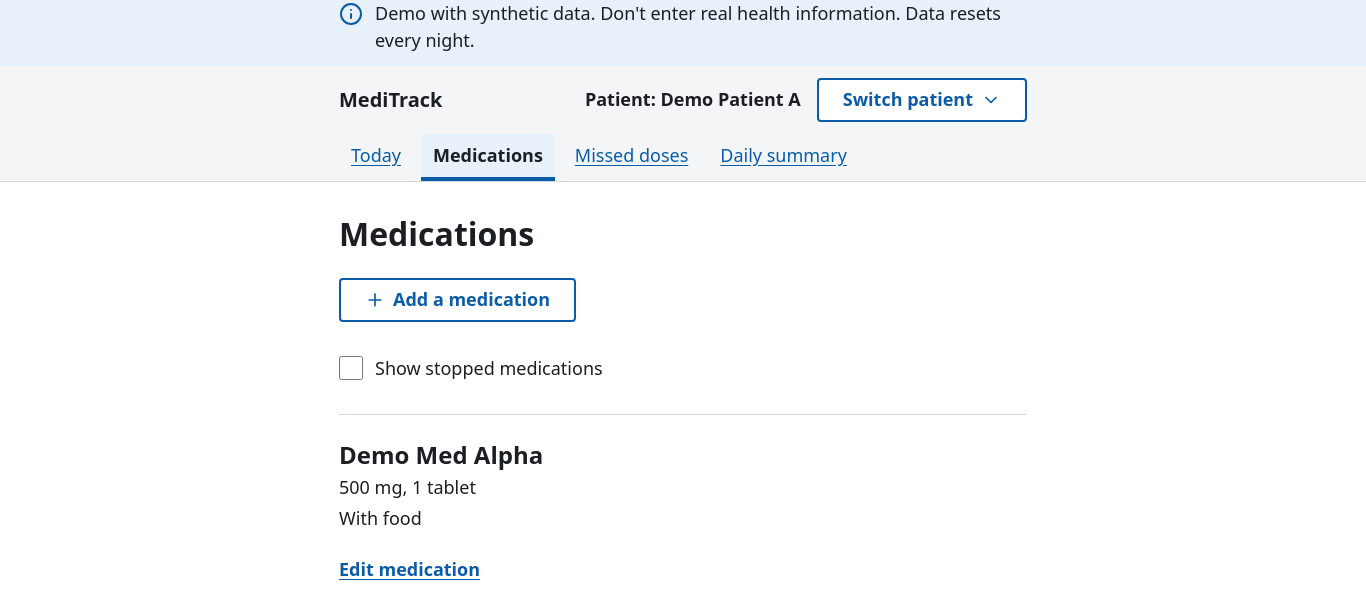
Test case: Medication form › shows the server's field errors next to the field (AC-03)
The width and height of the screenshot is (1366, 601).
Step 1. Click the button "Add a medication" → x=458, y=300, box 339,278 -> 576,322
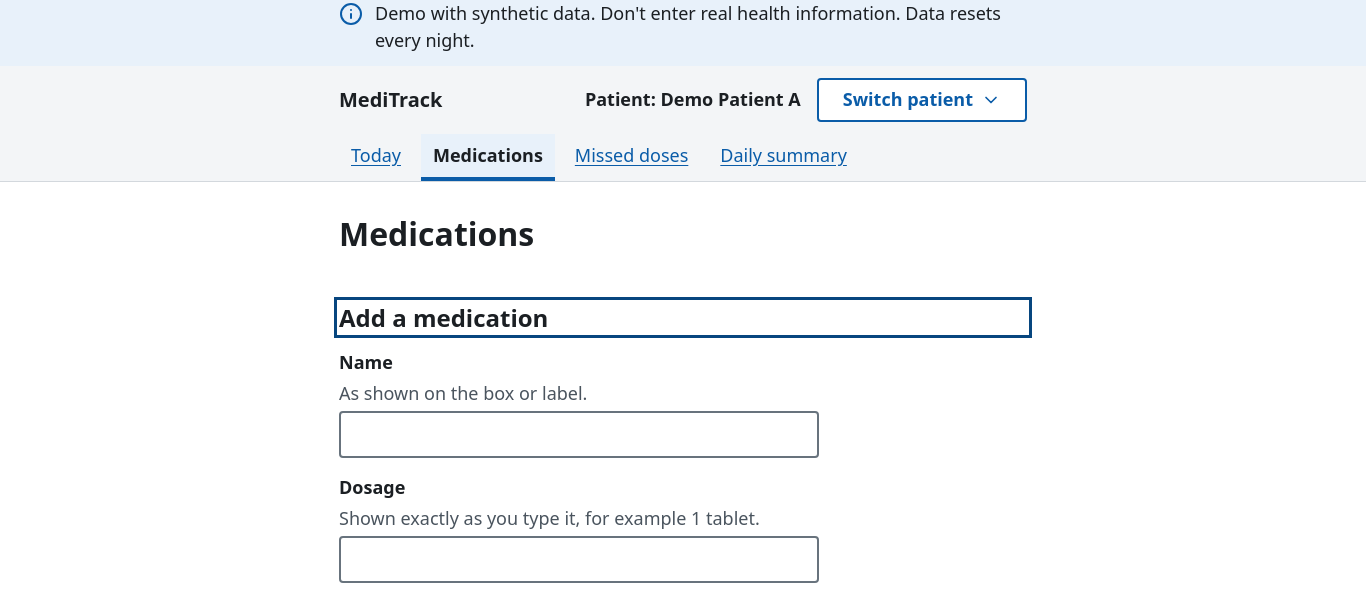
Step 2. Type "Demo Med Alpha" into the field labelled "Name" → x=579, y=435, box 339,411 -> 819,458
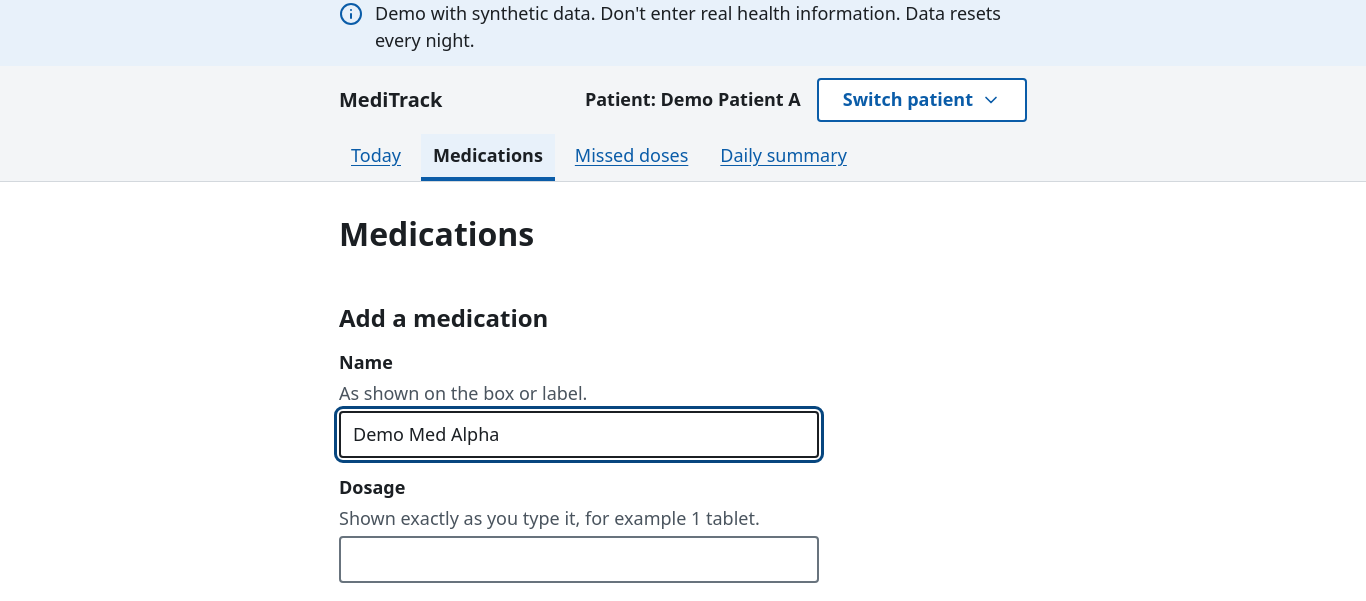
Step 3. Type "1 tablet" into the field labelled "Dosage" → x=579, y=560, box 339,536 -> 819,583
(page scrolled)
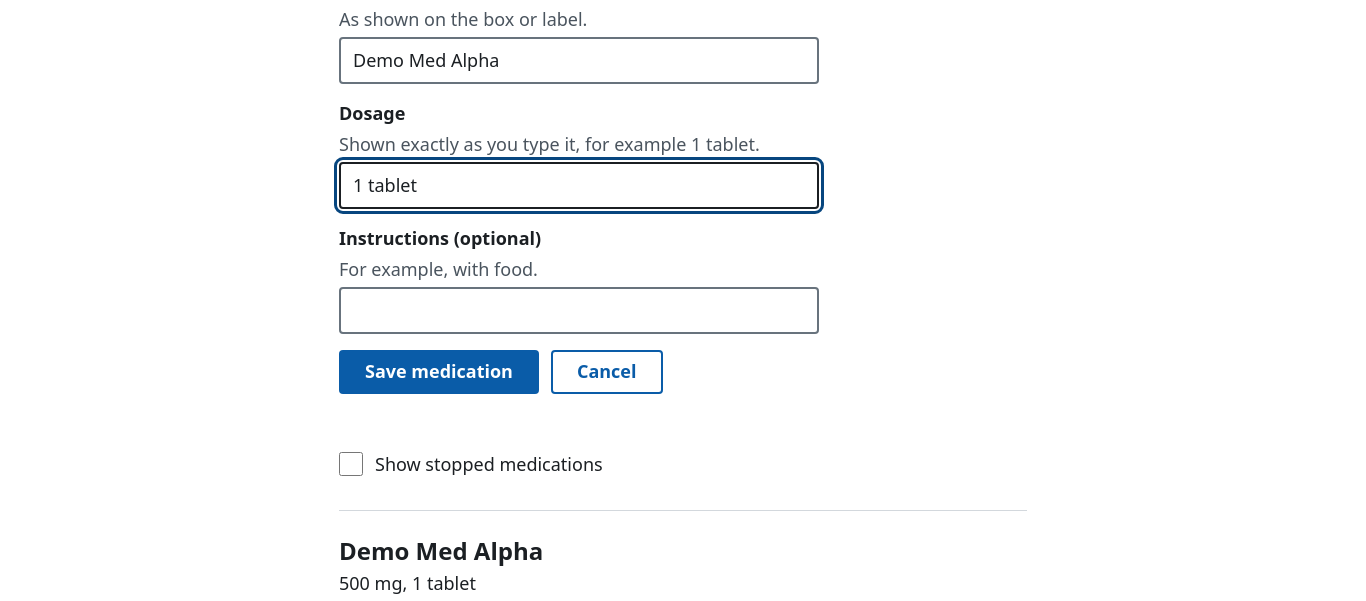
Step 4. Click the button "Save medication" → x=439, y=372, box 339,350 -> 539,394
(page scrolled)
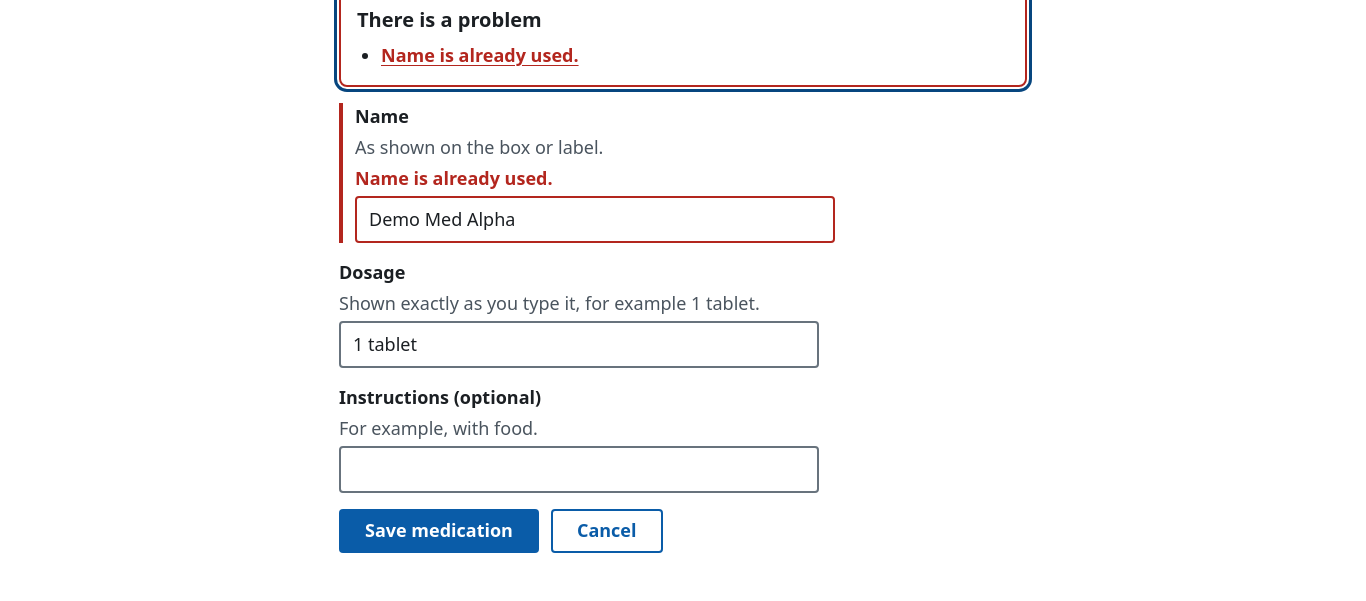
Result: the link "Name is already used." is shown at 381,43 -> 579,67
